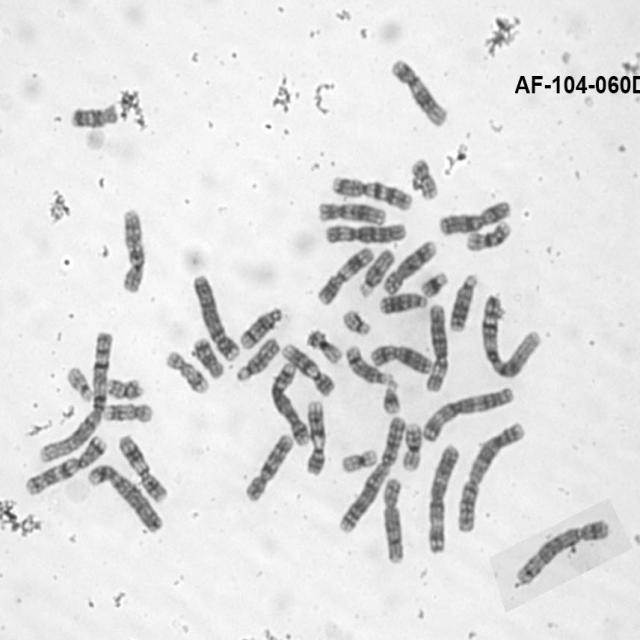A1: (32, 328, 118, 468), (478, 287, 544, 383)
A2: (334, 412, 407, 537), (455, 418, 529, 535)
A3: (420, 387, 521, 442), (426, 441, 460, 557)
B4: (85, 462, 165, 540), (190, 269, 243, 364)
B5: (513, 516, 614, 587), (268, 362, 314, 448)
C10: (241, 433, 296, 503), (117, 200, 152, 300)
C11: (114, 432, 171, 505), (315, 244, 376, 308)
C12: (387, 55, 450, 132), (315, 201, 389, 228)
C6: (422, 299, 452, 396), (318, 219, 412, 248)
C7: (20, 433, 112, 501), (327, 170, 413, 214)
C8: (382, 238, 437, 296), (381, 475, 408, 568)
C9: (279, 341, 336, 396), (305, 396, 331, 482)
D13: (447, 269, 482, 335), (378, 290, 428, 318)
D14: (343, 342, 399, 387), (235, 306, 285, 350)
D15: (235, 335, 281, 383), (360, 247, 396, 299)
E16: (463, 217, 517, 255), (399, 419, 424, 475)
E17: (162, 349, 212, 396), (101, 402, 155, 424)
E18: (65, 94, 120, 132), (191, 336, 227, 382)
F19: (304, 324, 344, 366), (340, 444, 381, 476)
F20: (408, 156, 442, 201), (104, 375, 146, 400)
G21: (419, 271, 448, 300), (381, 379, 402, 417)
G22: (62, 361, 97, 406), (340, 308, 373, 339)
X: (435, 197, 513, 237), (368, 343, 434, 377)
